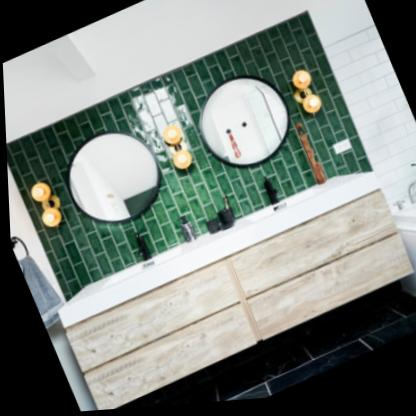Cabinet: (50, 177, 416, 413)
